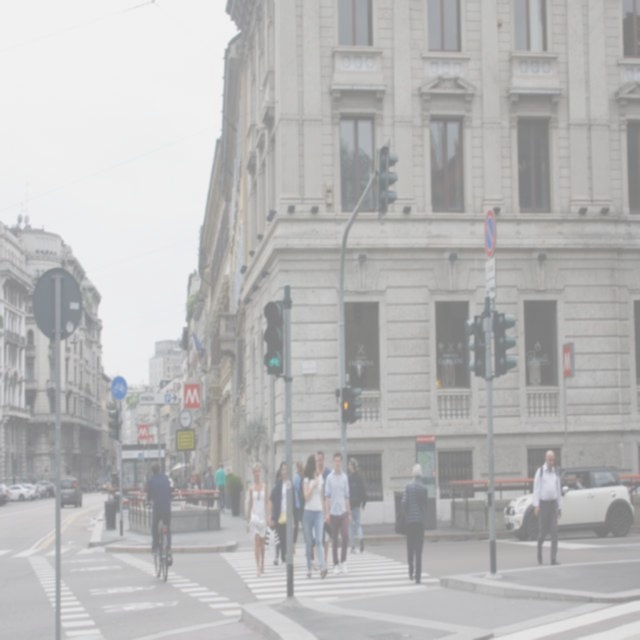pessoa: (394, 462, 429, 585), (297, 452, 329, 582), (531, 449, 564, 567), (323, 450, 353, 574), (270, 459, 299, 572), (245, 462, 272, 577), (146, 460, 174, 567), (347, 456, 367, 554), (167, 468, 207, 506), (268, 468, 282, 566), (292, 459, 306, 557), (316, 450, 332, 516), (346, 352, 370, 393), (213, 462, 228, 514), (441, 354, 458, 391), (82, 474, 113, 494), (202, 466, 216, 508), (528, 354, 542, 389), (12, 474, 34, 496), (190, 474, 201, 506), (570, 474, 588, 491), (136, 478, 146, 494), (283, 550, 289, 564), (65, 466, 71, 478)
